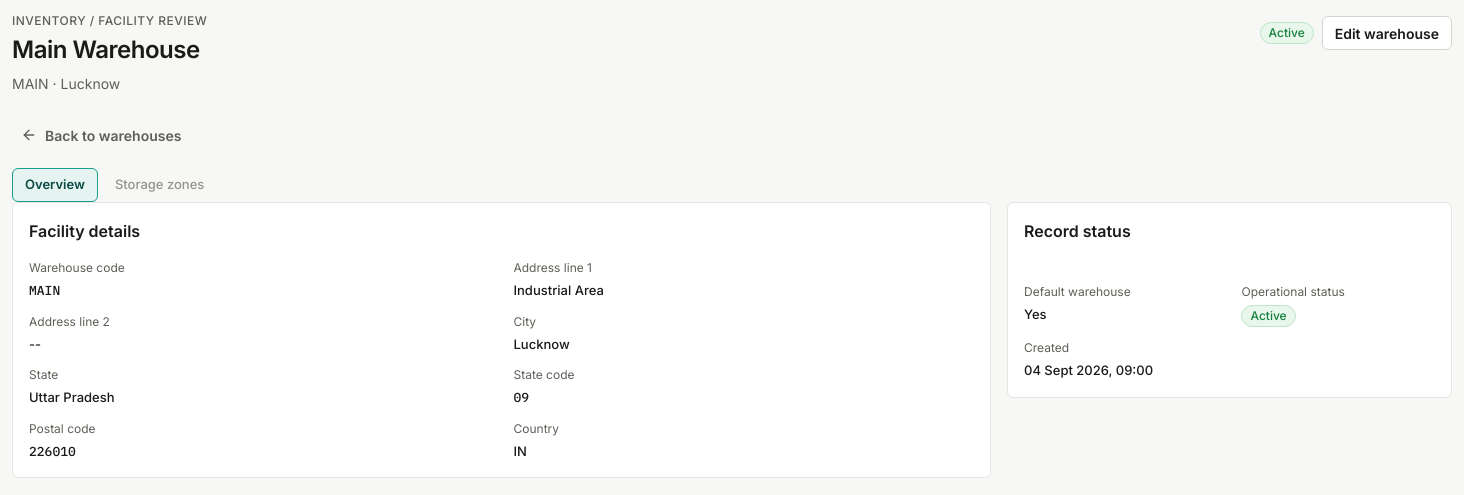
Test: WarehouseDetailPage › loads storage zones only when their tab is selected
Expected: the heading "Main Warehouse" is shown, [12,34,207,65]
Click the tab "Storage zones" at (160, 185), box [102,168,217,202]
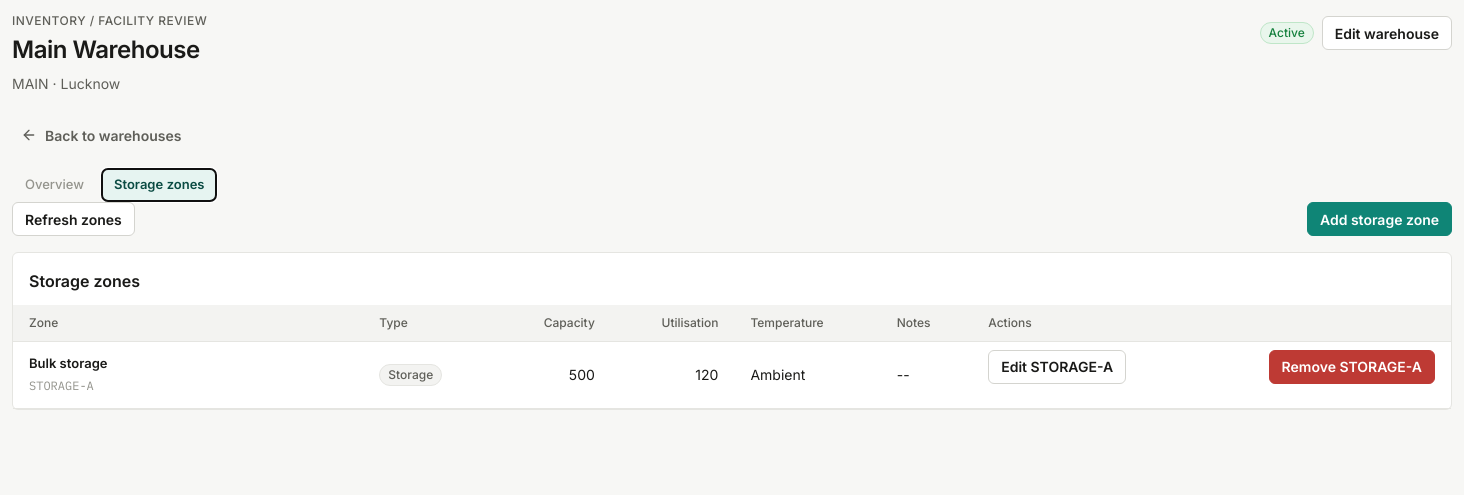
Result: the text "Bulk storage" is shown at [29,355,108,371]
